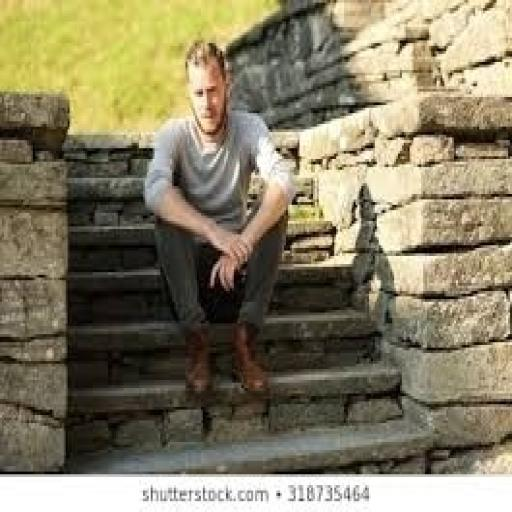sitting: (141, 35, 298, 402)
